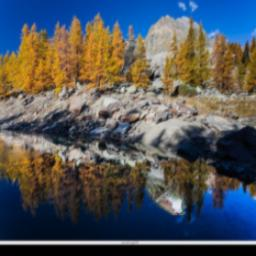Cuckoo: (142, 168, 186, 215), (122, 39, 144, 76)
